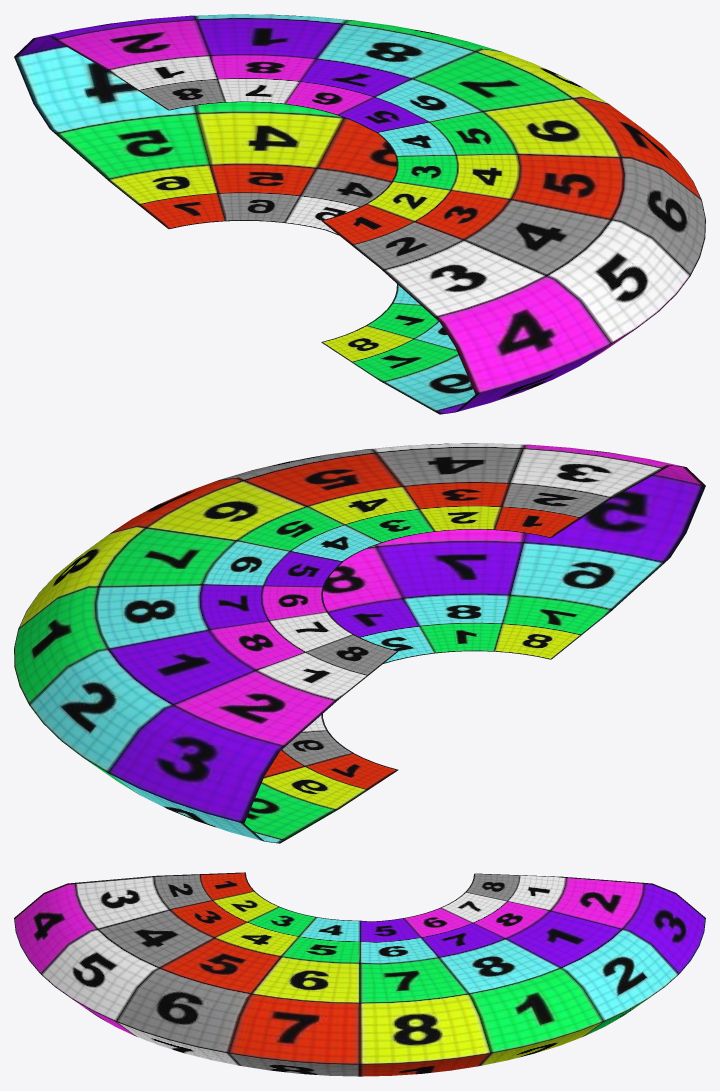
File: Trajectory004.fbx
3 renders of one model, top to bottom at view 1: azimuth 30°, elevation 25°; view 2: azimuth 150°, elevation 25°; view 3: azimuth 270°, elevation 25°, orthographic. The views are drawn at different scales.
Visible parts, largest first — view 1: Trajectory_004; view 2: Trajectory_004; view 3: Trajectory_004.
Part boxes in pixels (box(x1,y1,x2,y2)): Trajectory_004: box(14, 14, 705, 414); Trajectory_004: box(14, 443, 705, 843); Trajectory_004: box(14, 872, 705, 1076).
Bounding box in the file's own units: 367 × 183 × 53.28.
